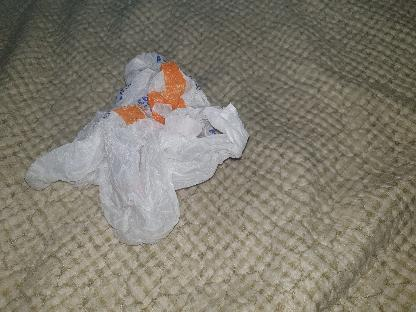Plastic Bag: (22, 53, 248, 246)
